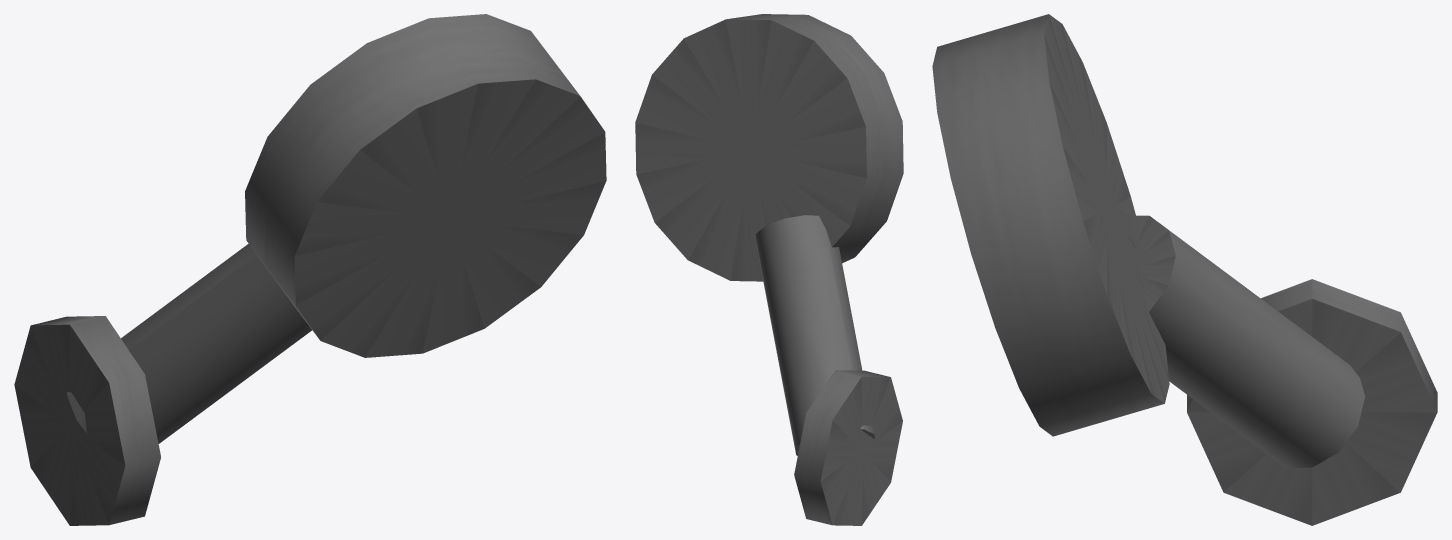
Rendered from mastarmcurve_6x2_c4_west.obj.
3 renders of one model, left to right at view 1: azimuth 30°, elevation 25°; view 2: azimuth 150°, elevation 25°; view 3: azimuth 270°, elevation 25°, orthographic. The views are drawn at different scales.
Visible parts, largest first — view 1: mastarm_6x2_c4_west; view 2: mastarm_6x2_c4_west; view 3: mastarm_6x2_c4_west.
Part boxes in pixels (x1,y1,x2,y2): mastarm_6x2_c4_west: (14,14,606,525); mastarm_6x2_c4_west: (635,14,903,525); mastarm_6x2_c4_west: (932,14,1437,525).
Size of the model in its own units: 0.8347 by 1.06 by 0.8059.
